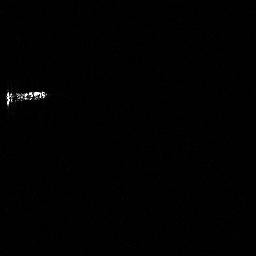ship: (2, 87, 51, 107)
